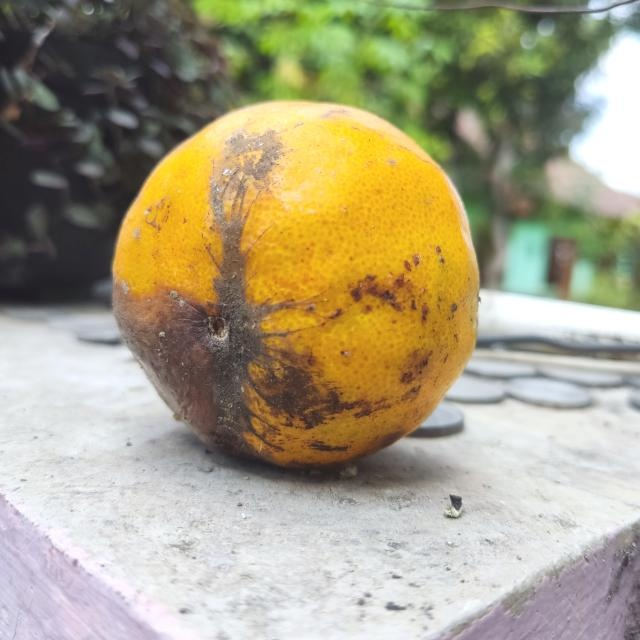agrume: (109, 99, 483, 465)
